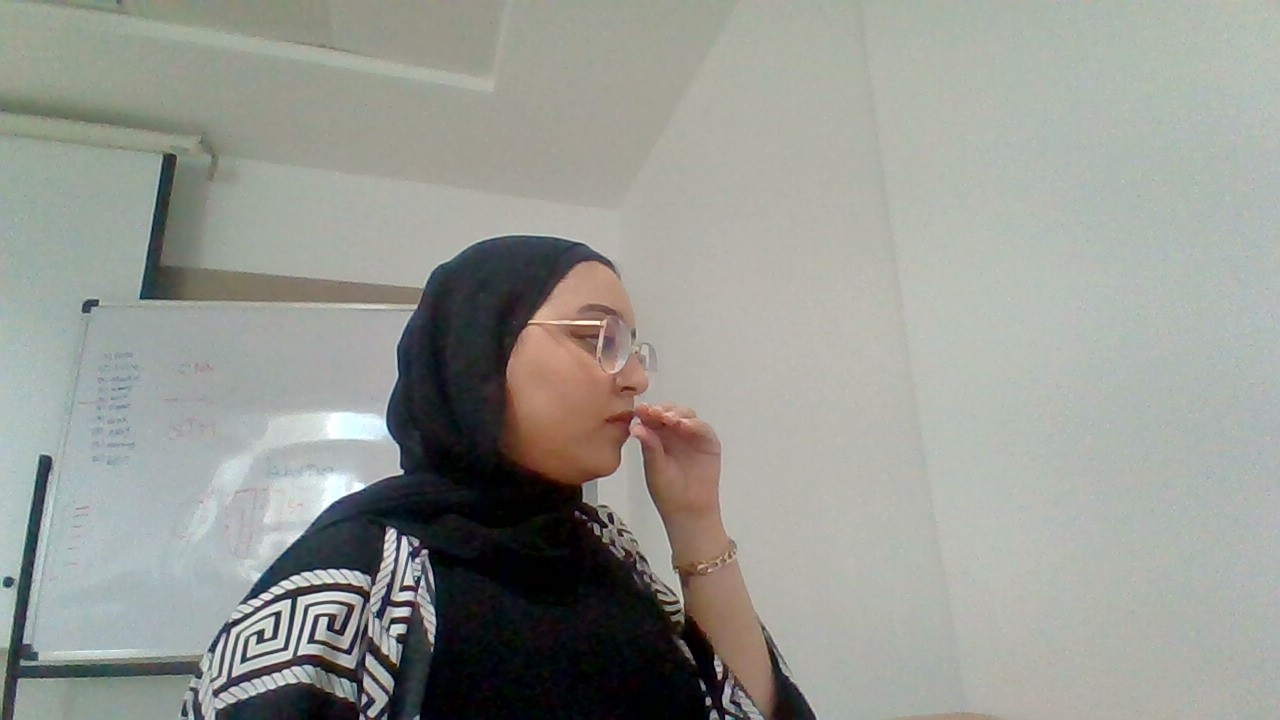eat: (629, 396, 729, 541)
